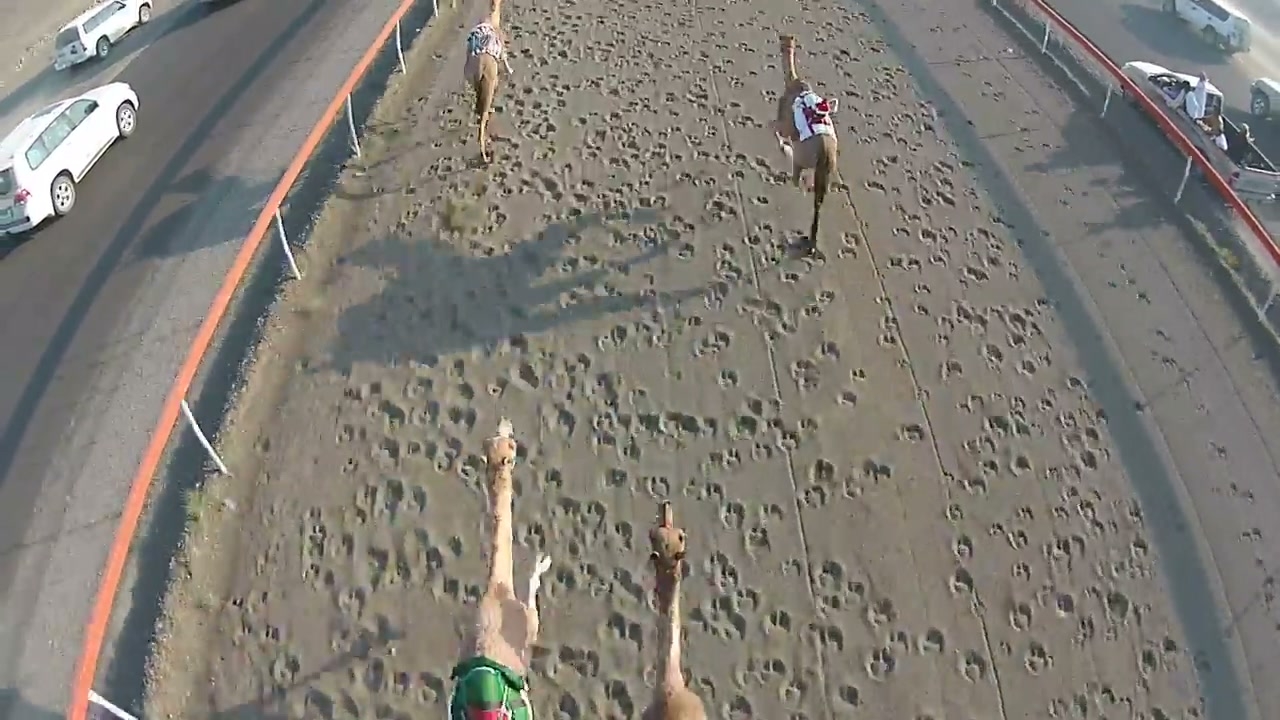animal_foot_print: (840, 60, 1180, 709), (693, 68, 957, 713), (351, 36, 582, 708), (517, 118, 766, 715)
